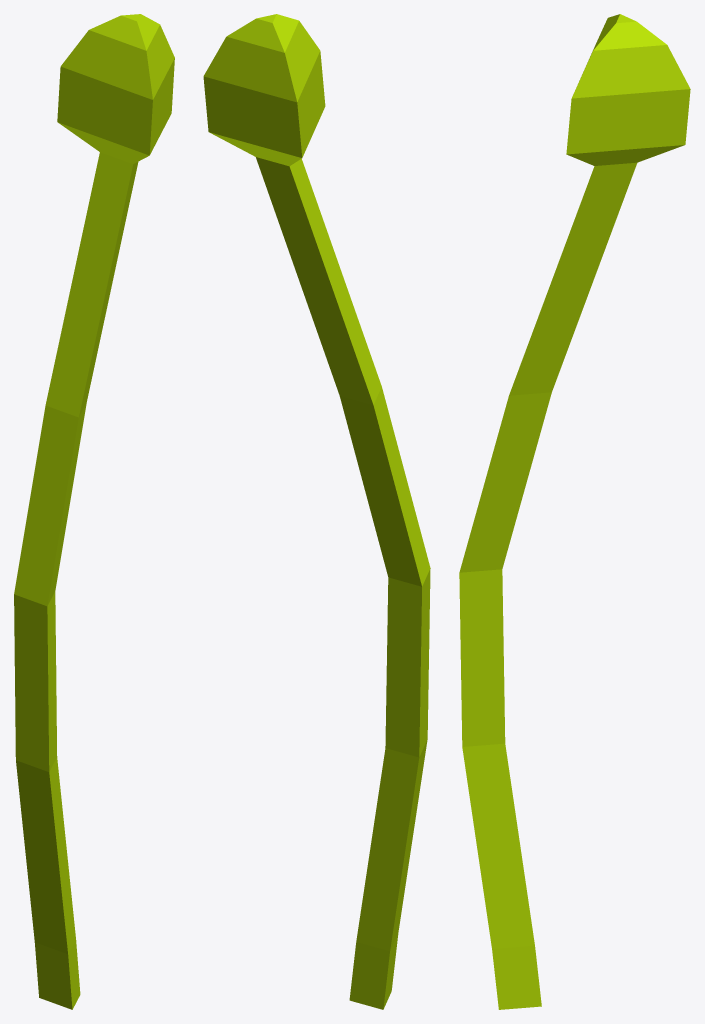
File: ClosedWildflower.fbx
3 views of the same model, side by side, from view 1: azimuth 30°, elevation 25°; view 2: azimuth 150°, elevation 25°; view 3: azimuth 330°, elevation 25° (orthographic). The views are drawn at different scales.
Parts seen in each view (by area): view 1: Cylinder.037; view 2: Cylinder.037; view 3: Cylinder.037.
Part boxes in pixels (<box>): Cylinder.037: <box>14,14,174,1009</box>; Cylinder.037: <box>203,14,430,1009</box>; Cylinder.037: <box>459,14,690,1009</box>.
Size of the model in its own units: 352 by 1710 by 190.
